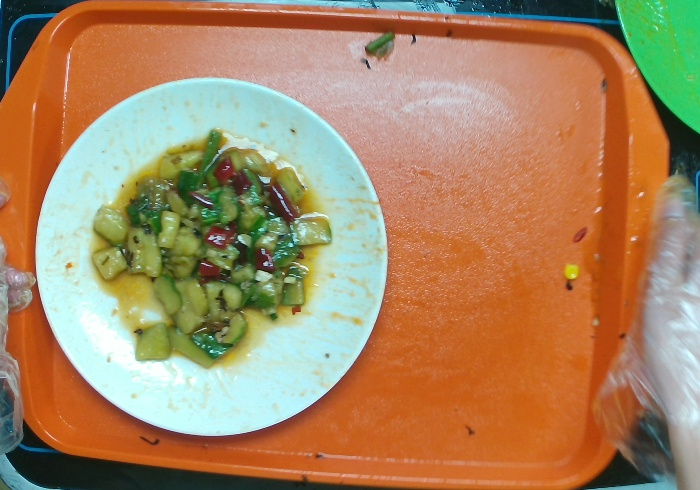HZYJPL-Bai_Se_Yuan_Pan: (28, 71, 394, 441)
